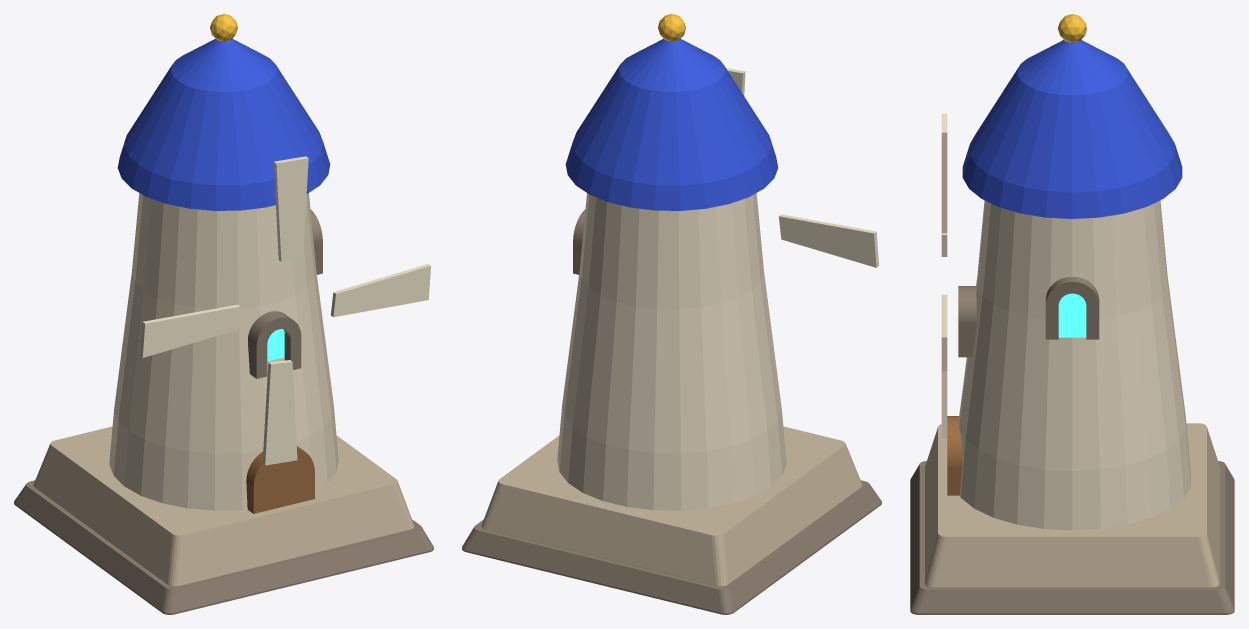
Rendered from moulin.glb.
3 renders of one model, left to right at view 1: azimuth 30°, elevation 25°; view 2: azimuth 150°, elevation 25°; view 3: azimuth 270°, elevation 25°, orthographic. The views are drawn at different scales.
Parts seen in each view (by area): view 1: stone_light, stone_mid, roof_blue, stone_dark, Ailes, wood, gold; view 2: stone_light, stone_mid, roof_blue, stone_dark, Ailes, gold; view 3: stone_light, roof_blue, stone_mid, stone_dark, Ailes, FenetresMagie, wood, gold.
Part boxes in pixels (<box>): stone_light: <box>109,193,338,510</box>; stone_mid: <box>33,426,414,586</box>; roof_blue: <box>117,39,330,210</box>; stone_dark: <box>14,209,433,614</box>; Ailes: <box>140,156,430,465</box>; wood: <box>246,446,314,513</box>; gold: <box>210,14,237,41</box>; stone_light: <box>557,193,786,510</box>; stone_mid: <box>481,426,862,586</box>; roof_blue: <box>565,39,778,210</box>; stone_dark: <box>462,209,881,614</box>; Ailes: <box>726,68,878,267</box>; gold: <box>658,14,685,41</box>; stone_light: <box>959,200,1190,530</box>; roof_blue: <box>962,40,1182,218</box>; stone_mid: <box>925,423,1219,587</box>; stone_dark: <box>910,277,1234,614</box>; Ailes: <box>941,113,947,437</box>; FenetresMagie: <box>1058,293,1086,337</box>; wood: <box>947,416,962,495</box>; gold: <box>1057,14,1087,43</box>.
Bounding box in the file's own units: 1.88 × 3.18 × 1.76.
